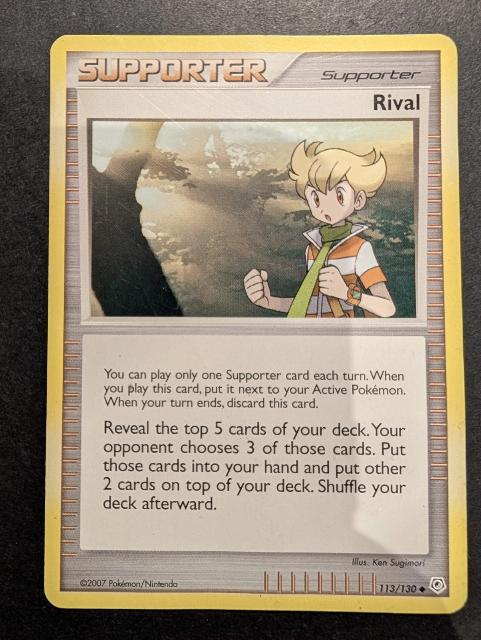Card: (40, 30, 472, 618)
Name: (369, 89, 427, 117)
